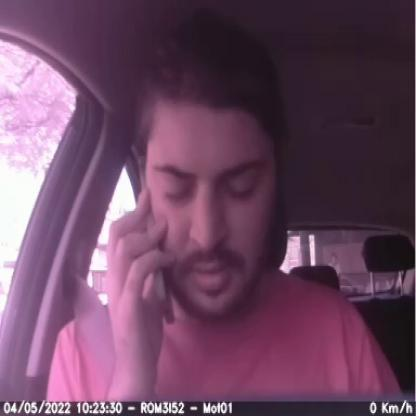phone: (124, 146, 182, 328)
